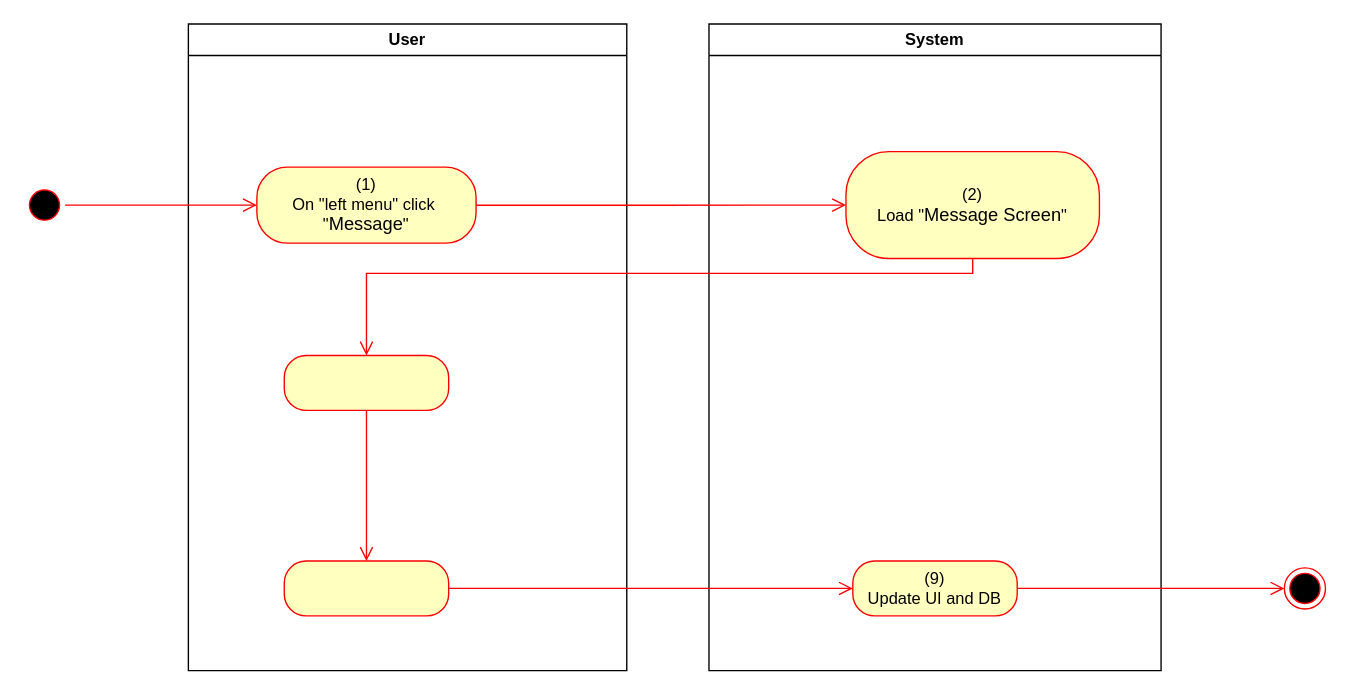
The diagram is 1349 pixels wide and 695 high, and some of its shapes have lost their labels. The centre of each missing label's shape, as x and y in pixels:
(3) Giving Message: point 366,382
(4) Click "Gửi": point 366,588
